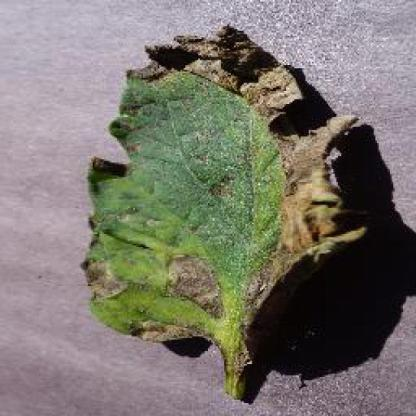Tomato_Blight: (84, 24, 367, 340)
